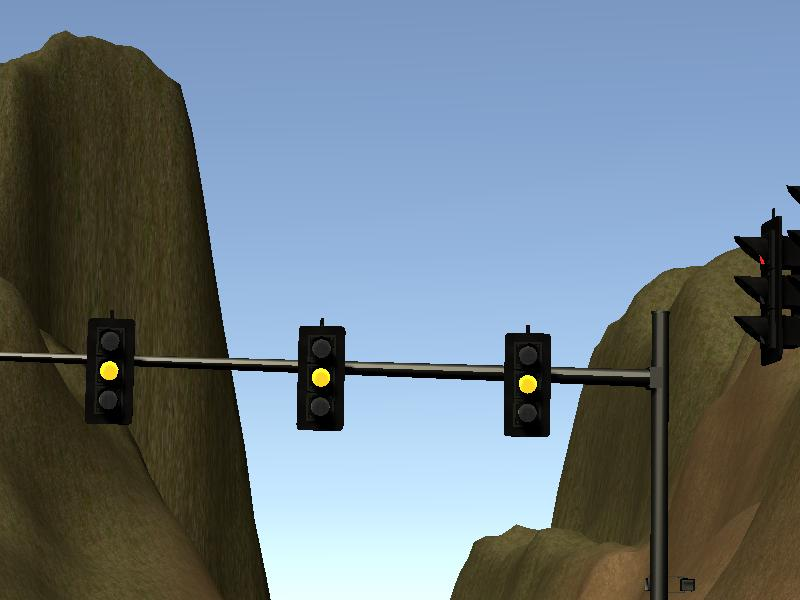Yellow: (297, 324, 345, 430), (86, 317, 133, 425), (503, 333, 549, 437)
